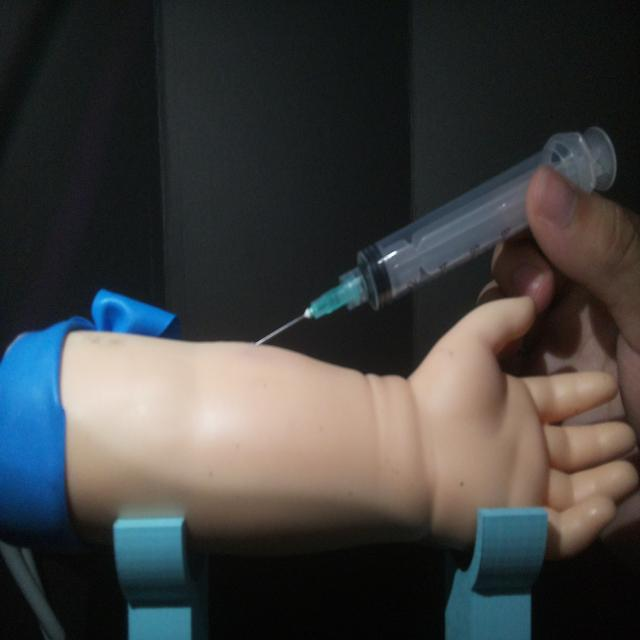26deg: (249, 120, 619, 350)
